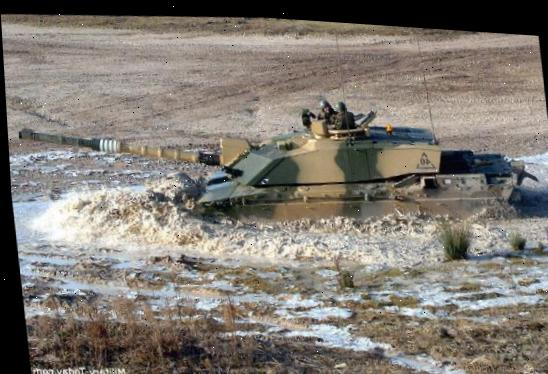tank: (7, 79, 531, 274)
